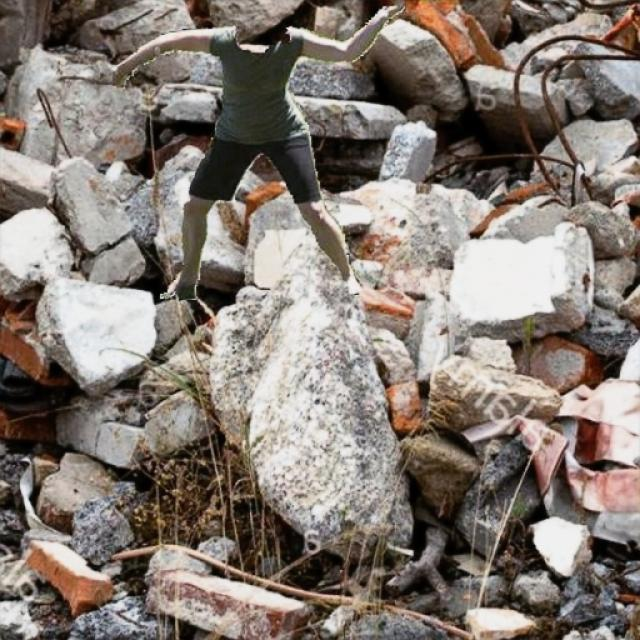Person in Rubble: (112, 6, 404, 300)
